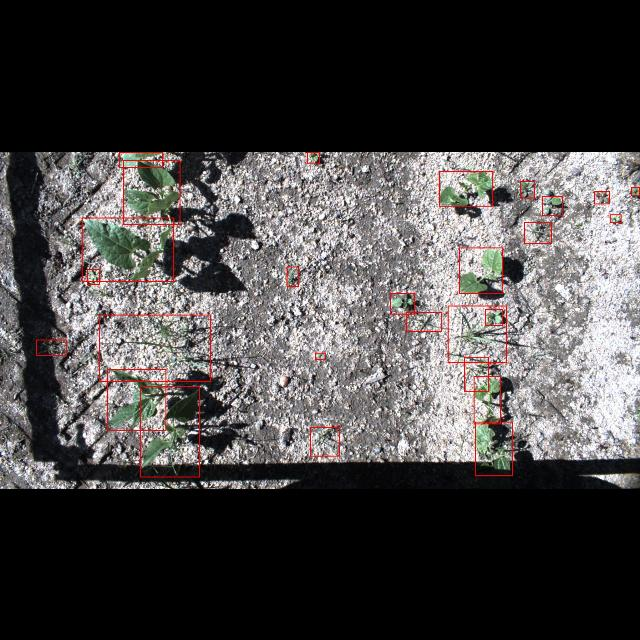crop: (82, 217, 174, 281), (140, 386, 200, 476), (124, 160, 180, 224), (108, 368, 166, 429), (459, 247, 503, 293), (439, 170, 493, 206), (476, 421, 512, 475), (474, 376, 500, 424), (120, 152, 162, 166)
weed: (100, 314, 210, 380), (448, 306, 506, 362), (310, 426, 340, 456), (465, 357, 489, 391), (406, 312, 442, 331), (524, 222, 552, 242), (390, 292, 414, 314), (36, 340, 66, 354), (542, 196, 562, 214), (486, 309, 502, 325), (520, 180, 534, 198), (286, 266, 298, 286), (87, 268, 99, 284), (594, 191, 610, 203), (307, 152, 319, 162), (315, 352, 325, 360), (610, 214, 620, 222), (631, 187, 639, 196)
